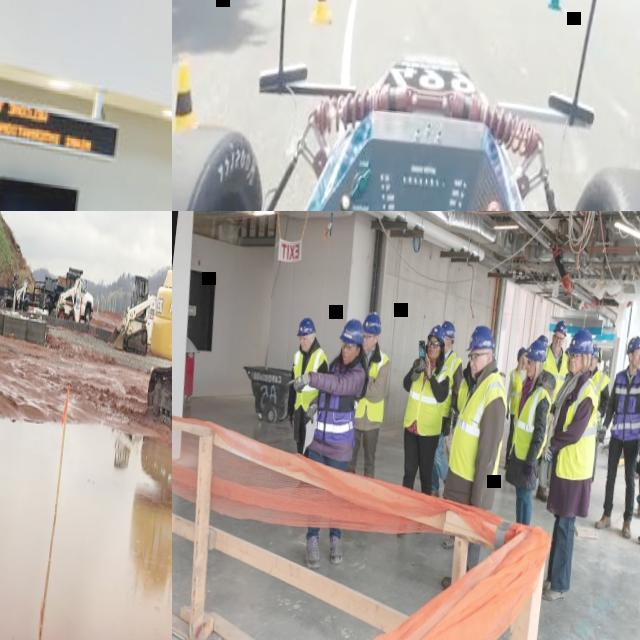Hardhat: (465, 322, 495, 353), (338, 316, 366, 345), (566, 325, 594, 354), (524, 336, 546, 361), (362, 310, 383, 334), (426, 321, 447, 343), (296, 316, 316, 338), (439, 319, 456, 338), (626, 332, 640, 353), (552, 318, 568, 335), (516, 344, 528, 361), (590, 345, 601, 358), (536, 333, 550, 343)
NO-Mask: (568, 360, 582, 372), (470, 362, 480, 377), (341, 352, 352, 364), (426, 348, 437, 358), (300, 341, 310, 350), (631, 358, 640, 367), (552, 341, 561, 350), (362, 342, 372, 350), (526, 367, 534, 375), (588, 362, 595, 371), (523, 357, 527, 362)
Person: (268, 309, 370, 571), (430, 321, 515, 597), (528, 323, 608, 604), (387, 320, 456, 539), (585, 328, 640, 539), (497, 336, 557, 524), (278, 315, 332, 488), (528, 318, 573, 503), (346, 310, 394, 477), (422, 318, 467, 496), (577, 344, 614, 483), (500, 344, 528, 469), (627, 331, 640, 520), (455, 361, 472, 413), (536, 331, 549, 353)
Safety Cone: (172, 56, 219, 211), (310, 0, 338, 26)
Safety Vest: (446, 365, 512, 484), (554, 374, 602, 482), (312, 356, 368, 444), (401, 357, 454, 437), (508, 383, 552, 461), (288, 343, 330, 412), (352, 347, 390, 422), (607, 364, 640, 440), (540, 345, 569, 404), (437, 351, 463, 415), (586, 368, 612, 430), (504, 368, 524, 416)
vehicle: (172, 0, 640, 211), (106, 271, 158, 354), (32, 262, 98, 319), (54, 274, 84, 321)
